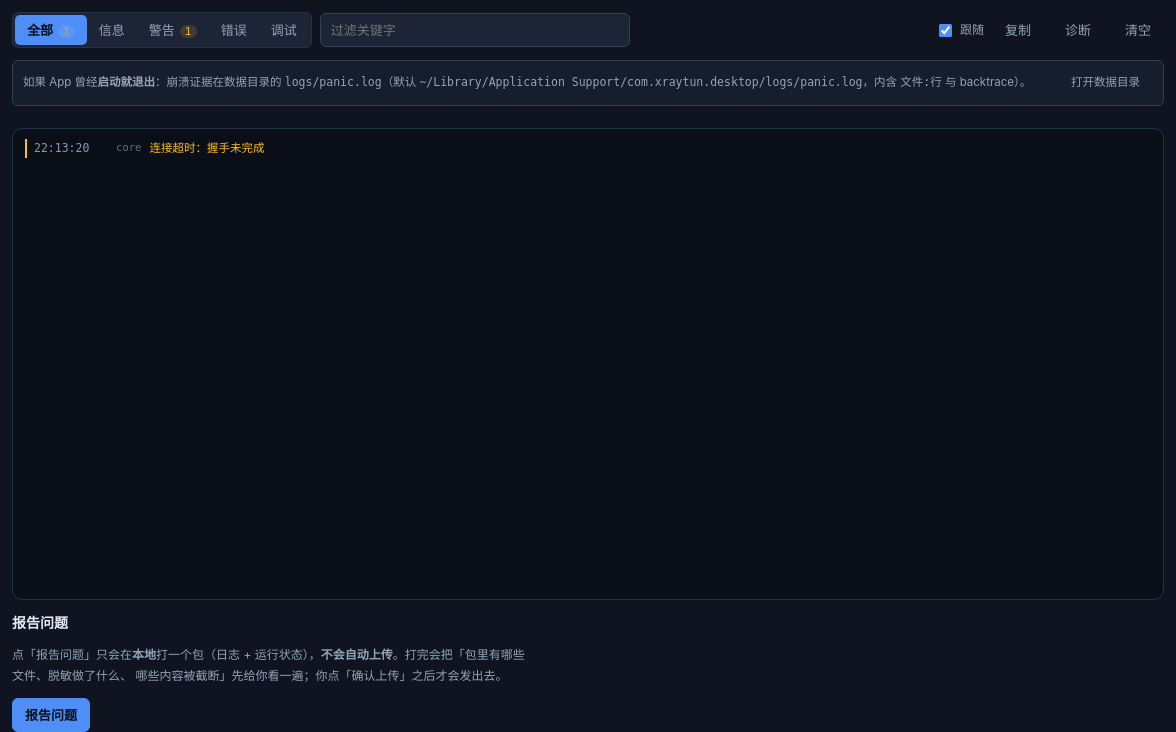
Scenario: B3：剪贴板被拒时必须说出来（并给可手动复制的兜底） › 日志页「复制」：出现失败说明 + 可选中 textarea（里面就是要复制的日志原文）
Check: the text "连接超时：握手未完成" is shown, box x1=149 y1=141 x2=264 y2=155
Click the button "复制" at (1018, 30), box x1=992 y1=13 x2=1044 y2=47
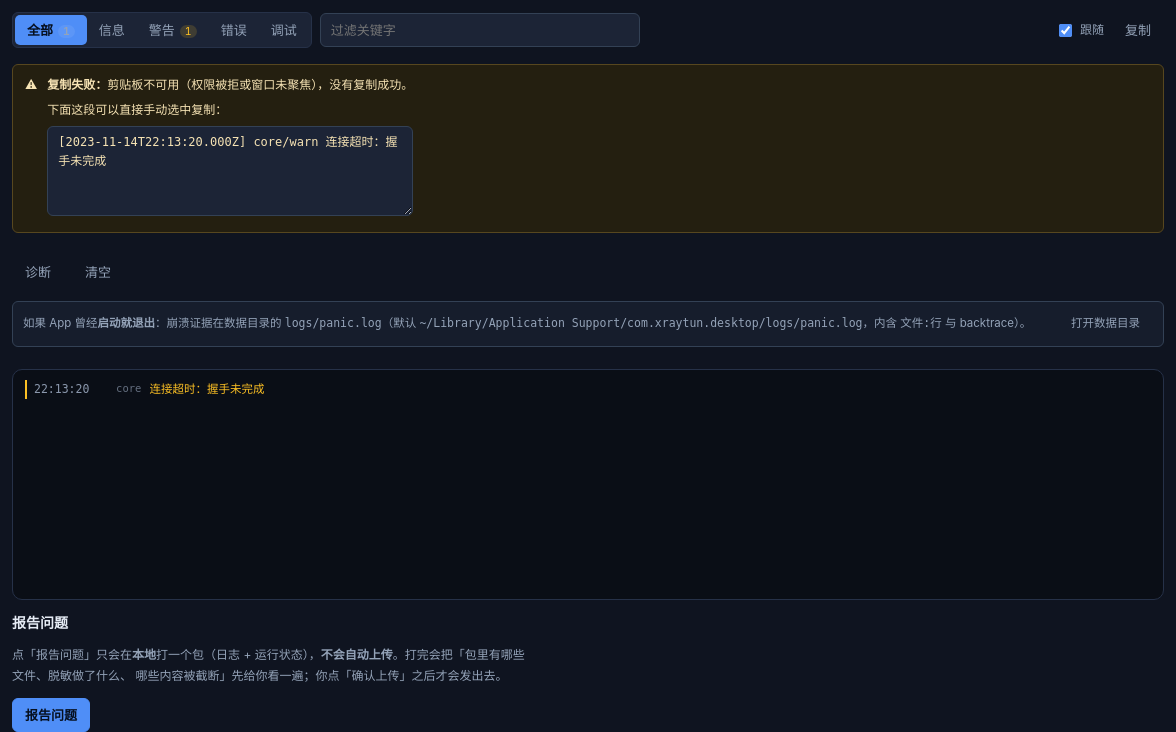
Check: the text "复制失败：剪贴板不可用（权限被拒或窗口未聚焦），没有复制成功。 下面这段可以直接手动选中复制：" is shown, box x1=47 y1=75 x2=413 y2=222
